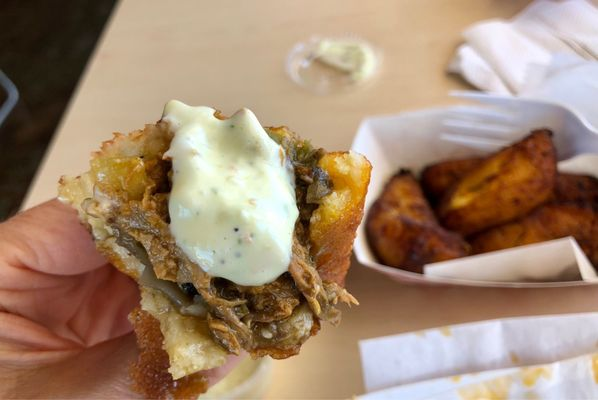soup: (56, 100, 372, 392)
